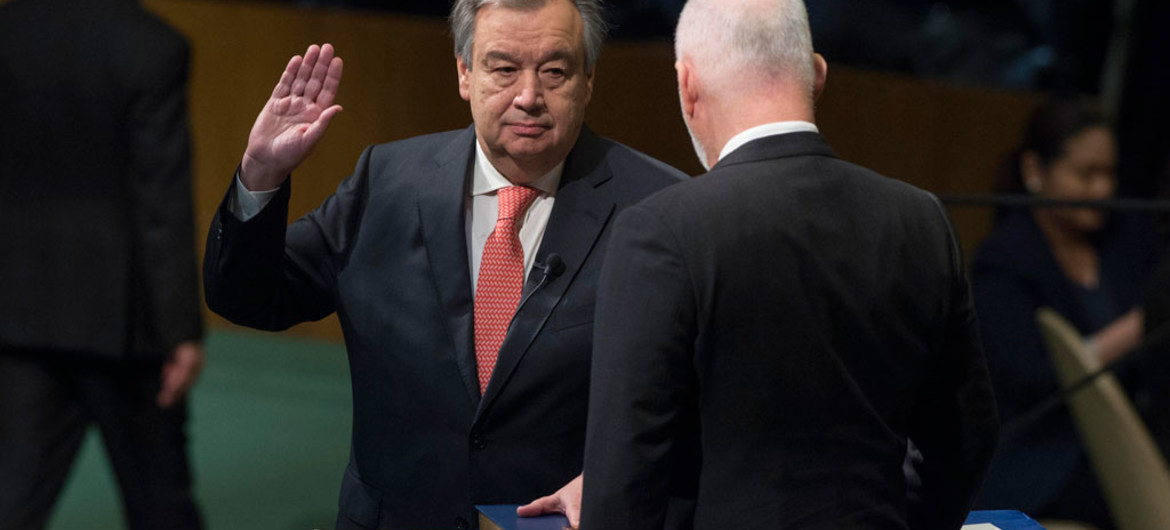open_hand: (234, 31, 363, 190)
